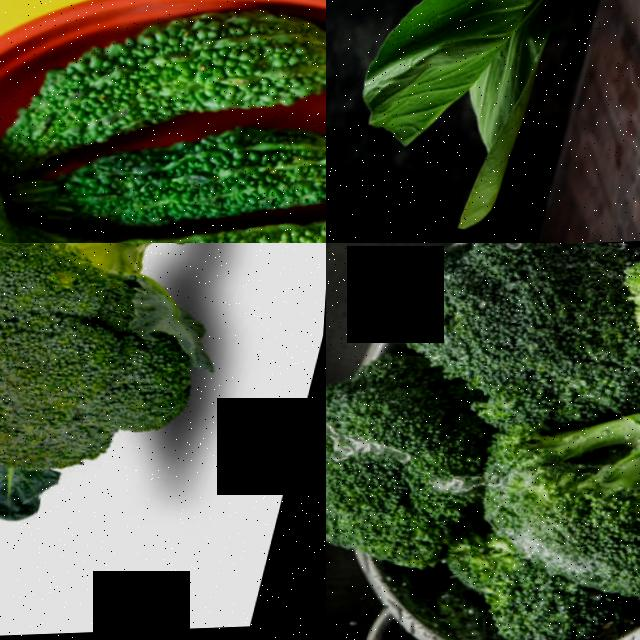bitter gourd: (58, 2, 326, 137), (79, 107, 326, 238), (151, 201, 326, 243)
bok choy: (326, 0, 640, 243)
broccoli: (0, 243, 321, 622), (366, 243, 638, 423), (326, 354, 488, 602), (482, 414, 640, 611), (599, 243, 640, 412)
